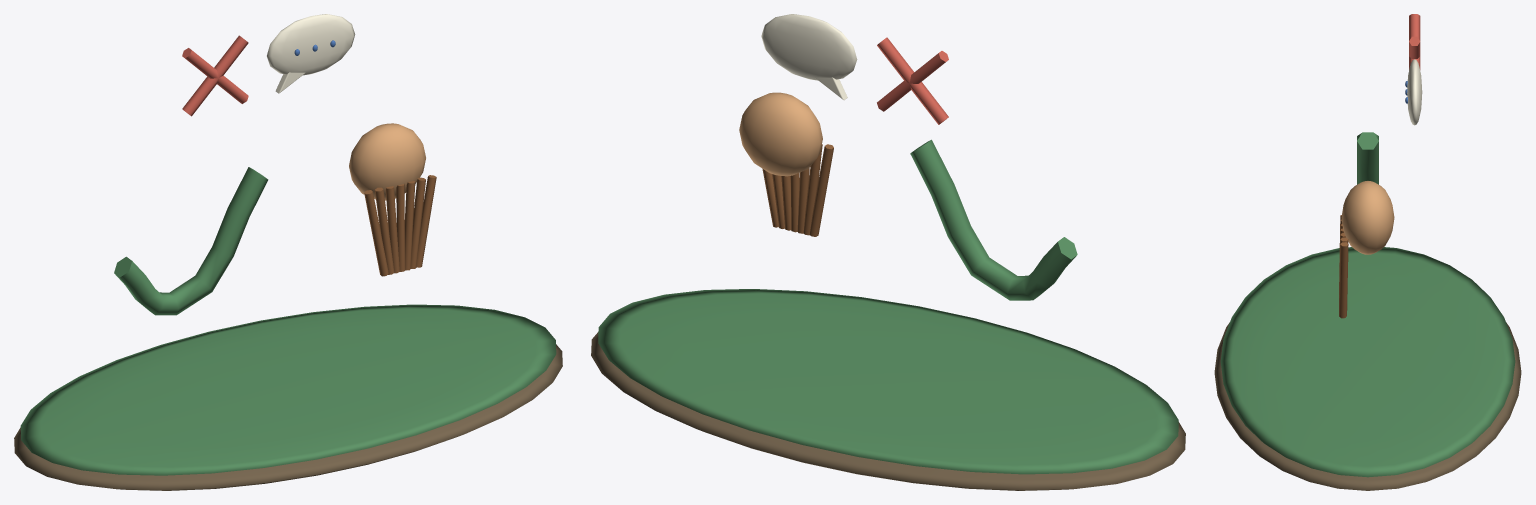
Rendered from complete-third-so-bearded-objection.glb.
3 views of the same model, side by side, from view 1: azimuth 30°, elevation 25°; view 2: azimuth 150°, elevation 25°; view 3: azimuth 270°, elevation 25° (orthographic). The views are drawn at different scales.
Visible parts, largest first — view 1: complete-third-so-bearded-objection_surface_01, complete-third-so-bearded-objection_surface_00, complete-third-so-bearded-objection_surface_03, complete-third-so-bearded-objection_surface_05, complete-third-so-bearded-objection_surface_02, complete-third-so-bearded-objection_surface_04; view 2: complete-third-so-bearded-objection_surface_01, complete-third-so-bearded-objection_surface_00, complete-third-so-bearded-objection_surface_02, complete-third-so-bearded-objection_surface_05, complete-third-so-bearded-objection_surface_03, complete-third-so-bearded-objection_surface_04; view 3: complete-third-so-bearded-objection_surface_01, complete-third-so-bearded-objection_surface_00, complete-third-so-bearded-objection_surface_02, complete-third-so-bearded-objection_surface_05, complete-third-so-bearded-objection_surface_03, complete-third-so-bearded-objection_surface_04.
Part boxes in pixels (left/top/right/bottom): complete-third-so-bearded-objection_surface_01: left=20, top=167, right=556, bottom=475; complete-third-so-bearded-objection_surface_00: left=14, top=344, right=562, bottom=490; complete-third-so-bearded-objection_surface_03: left=364, top=175, right=436, bottom=276; complete-third-so-bearded-objection_surface_05: left=267, top=14, right=355, bottom=93; complete-third-so-bearded-objection_surface_02: left=349, top=123, right=425, bottom=200; complete-third-so-bearded-objection_surface_04: left=182, top=35, right=248, bottom=116; complete-third-so-bearded-objection_surface_01: left=598, top=139, right=1178, bottom=474; complete-third-so-bearded-objection_surface_00: left=591, top=332, right=1185, bottom=490; complete-third-so-bearded-objection_surface_02: left=739, top=92, right=822, bottom=176; complete-third-so-bearded-objection_surface_05: left=761, top=14, right=857, bottom=100; complete-third-so-bearded-objection_surface_03: left=762, top=144, right=833, bottom=236; complete-third-so-bearded-objection_surface_04: left=877, top=37, right=948, bottom=124; complete-third-so-bearded-objection_surface_01: left=1220, top=132, right=1515, bottom=477; complete-third-so-bearded-objection_surface_00: left=1214, top=322, right=1521, bottom=490; complete-third-so-bearded-objection_surface_02: left=1341, top=181, right=1394, bottom=254; complete-third-so-bearded-objection_surface_05: left=1407, top=59, right=1422, bottom=125; complete-third-so-bearded-objection_surface_03: left=1339, top=215, right=1348, bottom=318; complete-third-so-bearded-objection_surface_04: left=1409, top=14, right=1420, bottom=69.
Size of the model in its own units: 4.56 by 3.08 by 2.5.
